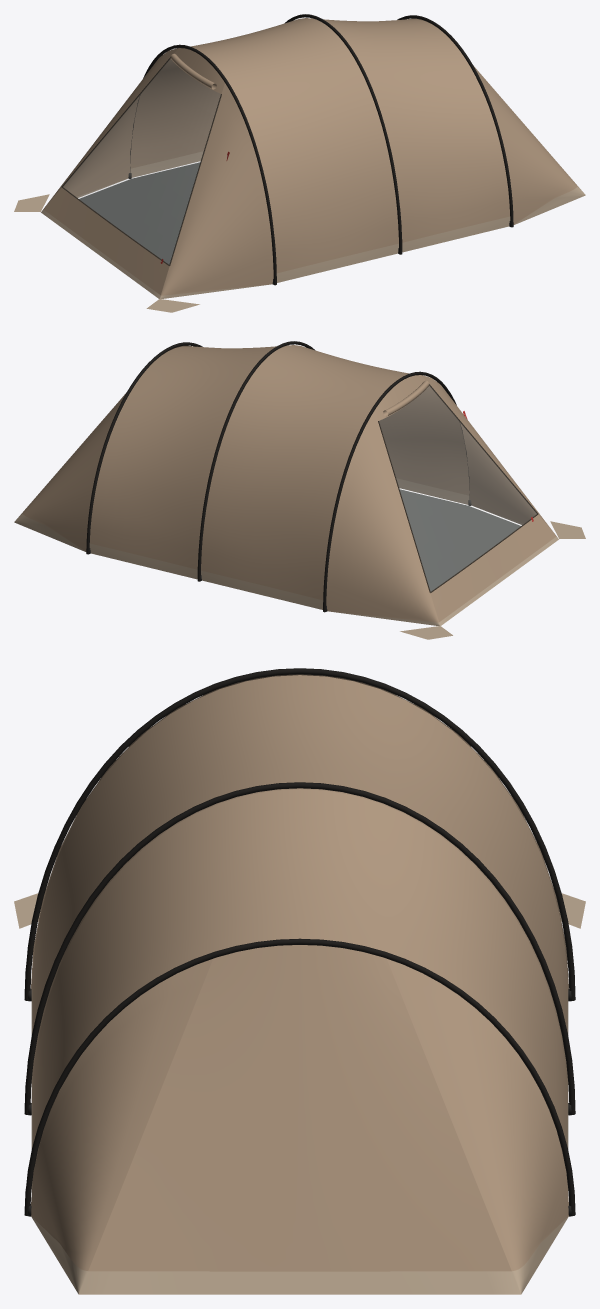
File: kovea-base-tunnel-510.glb
The picture shows the model from 3 angles, top to bottom: view 1: azimuth 30°, elevation 25°; view 2: azimuth 150°, elevation 25°; view 3: azimuth 270°, elevation 25°; orthographic projection. The views are drawn at different scales.
Parts seen in each view (by area): view 1: kovea-base-tunnel-510-sand, kovea-base-tunnel-510-tpu, kovea-base-tunnel-510-floor, kovea-base-tunnel-510-skirt, kovea-base-tunnel-510-sleeve, kovea-base-tunnel-510-zip; view 2: kovea-base-tunnel-510-sand, kovea-base-tunnel-510-tpu, kovea-base-tunnel-510-floor, kovea-base-tunnel-510-skirt, kovea-base-tunnel-510-sleeve, kovea-base-tunnel-510-zip; view 3: kovea-base-tunnel-510-sand, kovea-base-tunnel-510-sleeve, kovea-base-tunnel-510-skirt.
Boxes of the visible parts, box(x1,y1,x2,y2) form: kovea-base-tunnel-510-sand: box(43, 18, 577, 295); kovea-base-tunnel-510-tpu: box(63, 59, 220, 263); kovea-base-tunnel-510-floor: box(79, 162, 200, 264); kovea-base-tunnel-510-skirt: box(14, 151, 585, 312); kovea-base-tunnel-510-sleeve: box(130, 14, 513, 285); kovea-base-tunnel-510-zip: box(61, 57, 221, 265); kovea-base-tunnel-510-sand: box(22, 345, 556, 622); kovea-base-tunnel-510-tpu: box(379, 386, 536, 590); kovea-base-tunnel-510-floor: box(399, 489, 520, 591); kovea-base-tunnel-510-skirt: box(14, 478, 585, 639); kovea-base-tunnel-510-sleeve: box(86, 341, 469, 612); kovea-base-tunnel-510-zip: box(378, 384, 538, 592); kovea-base-tunnel-510-sand: box(30, 674, 569, 1271); kovea-base-tunnel-510-sleeve: box(24, 668, 575, 1216); kovea-base-tunnel-510-skirt: box(14, 893, 585, 1294).
Size of the model in its own units: 5.34 by 2.03 by 3.18.
